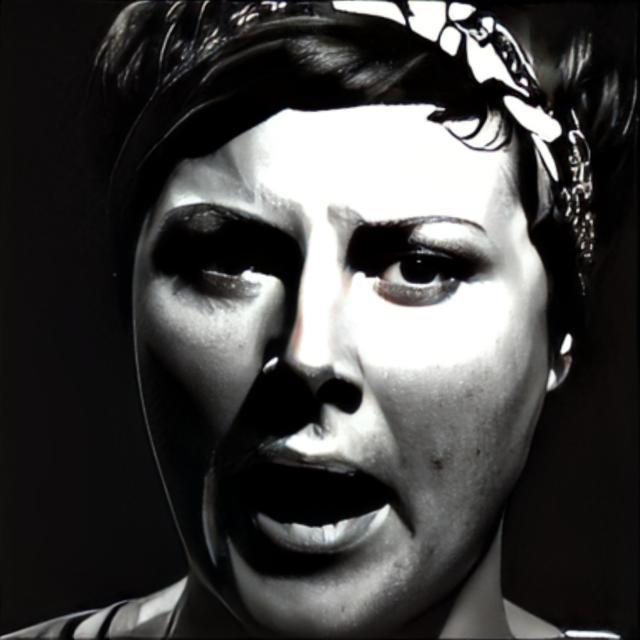fear: (129, 93, 552, 640)
